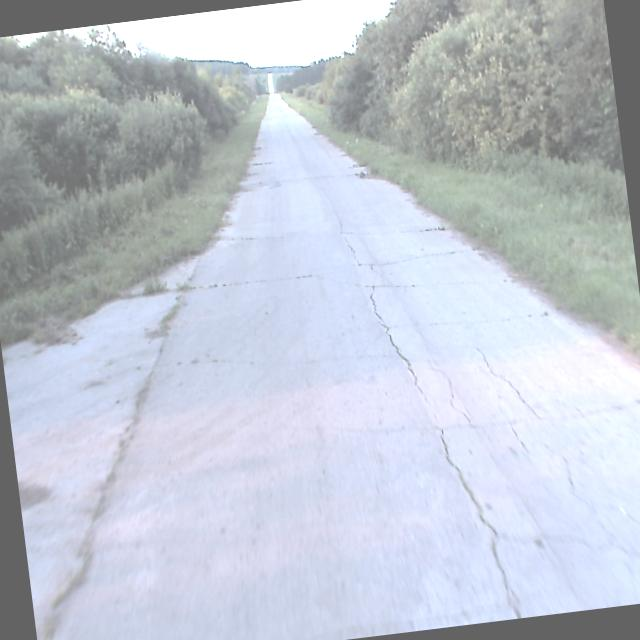road: (1, 72, 640, 640)
